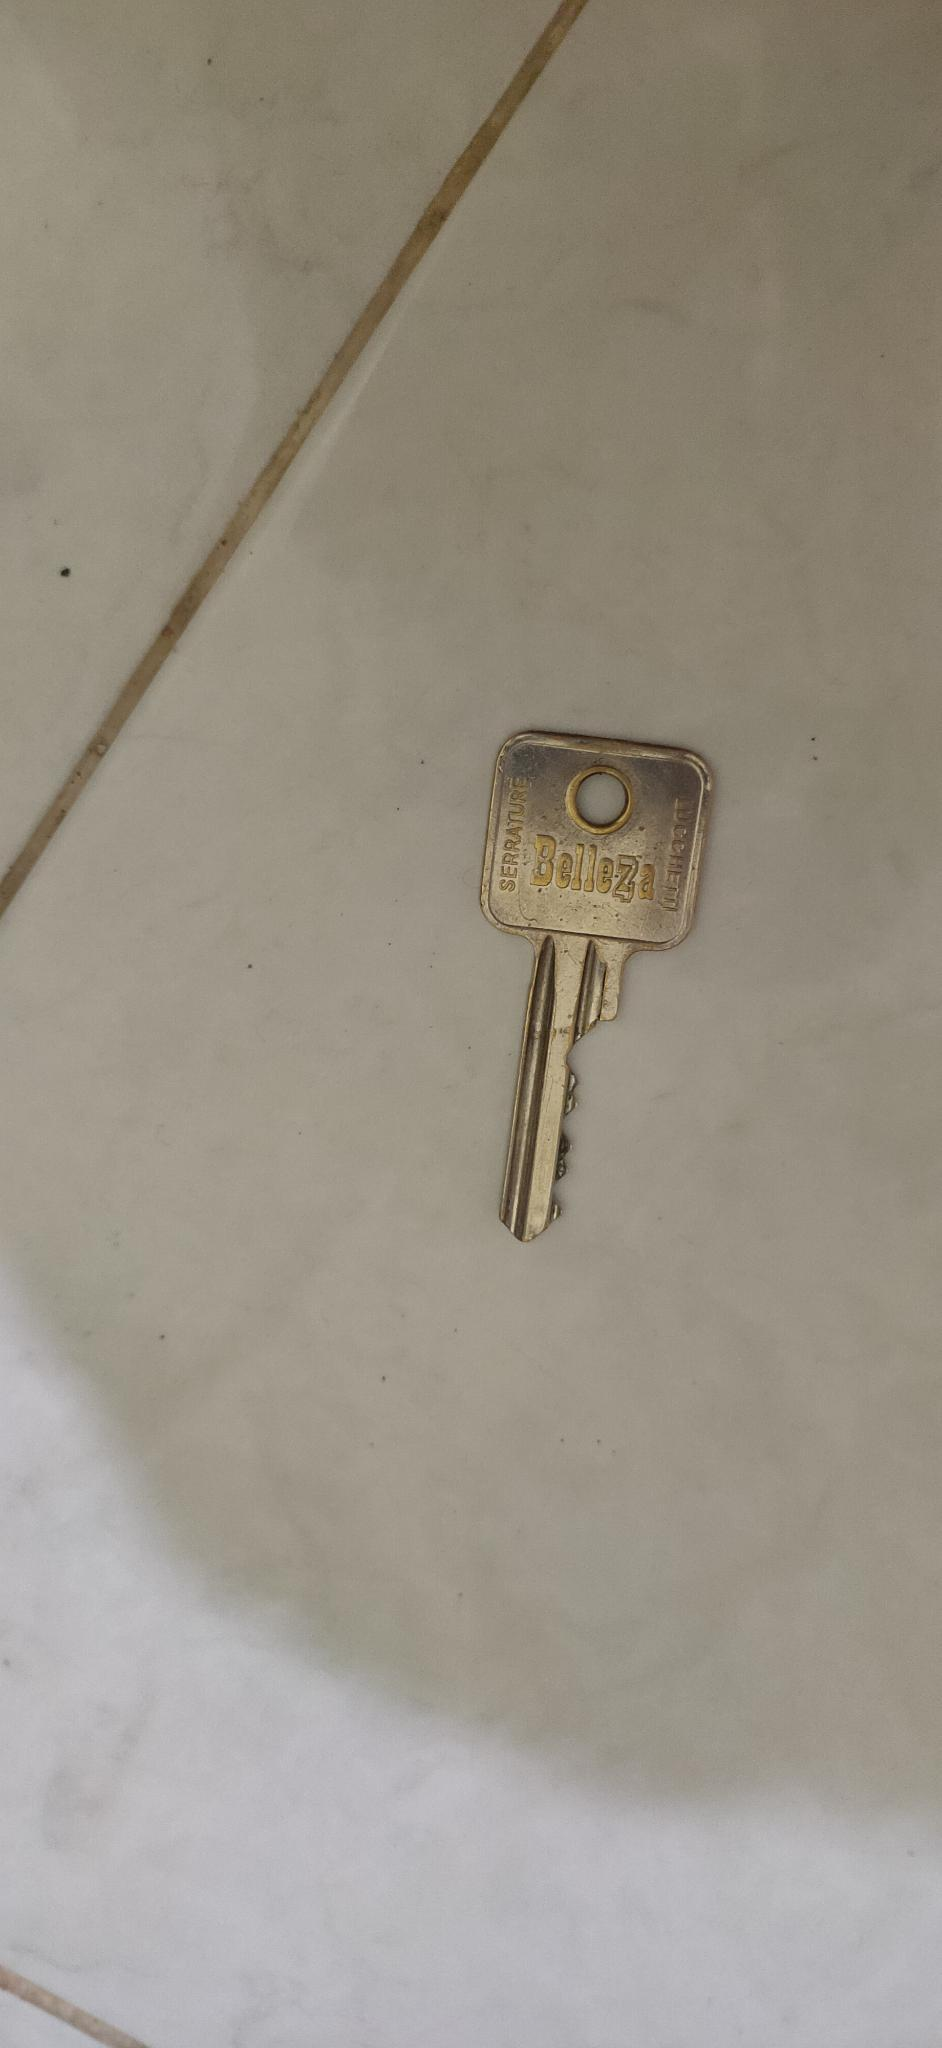keys: (470, 701, 736, 1273)
